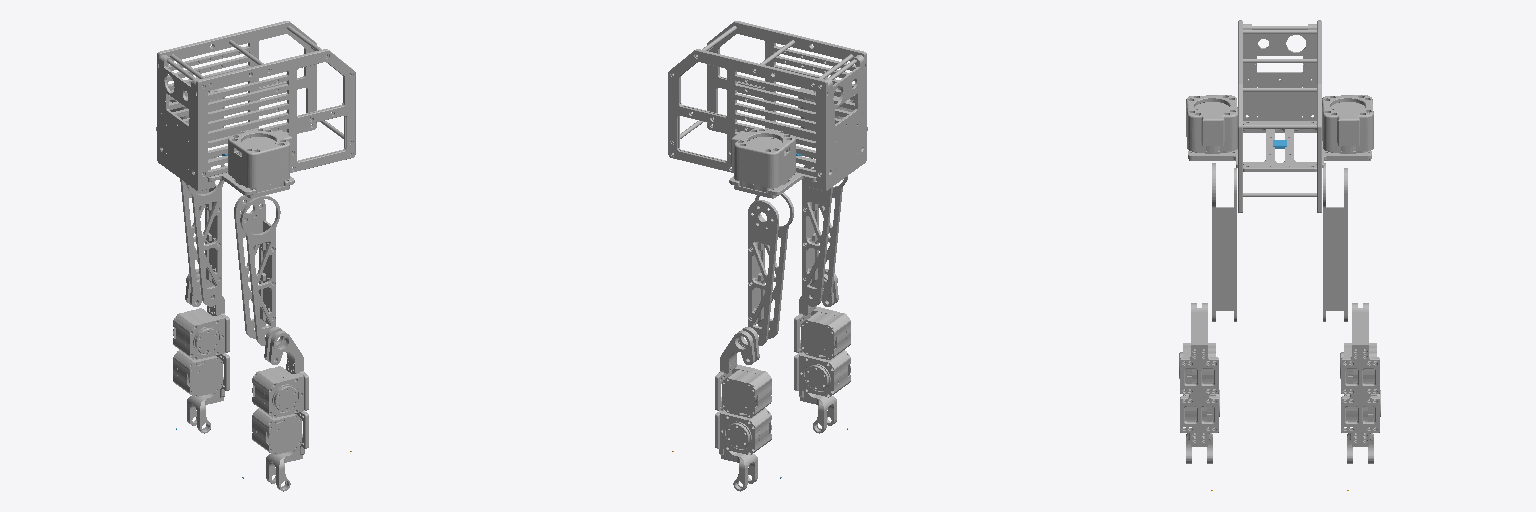
--- What the picture shows (computed from the rendered views, not written in the file) ---
The picture shows the robot from 3 angles, left to right: view 1: azimuth 30°, elevation 25°; view 2: azimuth 150°, elevation 25°; view 3: azimuth 270°, elevation 25°; orthographic projection.
Robot: pai_12dof_v2_0312 — 18 links, 17 joints (10 revolute, 7 fixed); root link base_link; default pose: all joints at 0.
Links seen in each view (by area): view 1: base_link, leg_r4_link, leg_l4_link, leg_r3_link, leg_l3_link; view 2: base_link, leg_l4_link, leg_r4_link, leg_l3_link, leg_r3_link; view 3: base_link, leg_r4_link, leg_l4_link, leg_r3_link, leg_l3_link.
Boxes of the visible links, x1,y1,x2,y2 form: base_link: [156, 21, 355, 198]; leg_r4_link: [252, 327, 308, 491]; leg_l4_link: [173, 269, 229, 433]; leg_r3_link: [234, 195, 280, 345]; leg_l3_link: [180, 157, 224, 306]; base_link: [668, 21, 867, 198]; leg_l4_link: [715, 327, 771, 491]; leg_r4_link: [794, 269, 850, 433]; leg_l3_link: [748, 193, 793, 345]; leg_r3_link: [802, 158, 847, 306]; base_link: [1186, 20, 1373, 212]; leg_r4_link: [1179, 303, 1219, 463]; leg_l4_link: [1340, 303, 1380, 463]; leg_r3_link: [1212, 163, 1236, 321]; leg_l3_link: [1323, 163, 1347, 321].
Bounding box of the posed robot: 0.205 × 0.2223 × 0.5032 m (x, y, z).
5 mesh visuals loaded from 13 distinct referenced files (5 binary STL); not drawn: 8 (reference not matched to a file when rendering).

The robot description file, URDF, robot "pai_12dof_v2_0312":
<?xml version="1.0" encoding="utf-8"?>
<!-- This URDF was automatically created by SolidWorks to URDF Exporter! Originally created by Stephen Brawner ([email redacted]) 
     Commit Version: 1.6.0-4-g7f85cfe  Build Version: 1.6.7995.38578
     For more information, please see http://wiki.ros.org/sw_urdf_exporter -->
<robot
  name="pai_12dof_v2_0312">
  
<mujoco>
  <compiler 
    meshdir="package://legged_hunter_description/meshes/" 
    balanceinertia="true" 
    discardvisual="false" />
</mujoco>


<gazebo>
    <plugin name="gazebo_ros_control" filename="libhunter_bipedal_hw_sim.so">
      <robotNamespace>/</robotNamespace>
      <robotParam>legged_robot_description</robotParam>
      <robotSimType>legged_gazebo/LeggedHWSim</robotSimType>
    </plugin>
  </gazebo>

  <gazebo>
    <plugin filename="libgazebo_ros_p3d.so" name="p3d_base_controller">
      <alwaysOn>true</alwaysOn>
      <updateRate>500.0</updateRate>
      <bodyName>base_link</bodyName>
      <topicName>ground_truth/state</topicName>
      <gaussianNoise>0</gaussianNoise>
      <frameName>world</frameName>
      <xyzOffsets>0 0 0</xyzOffsets>
      <rpyOffsets>0 0 0</rpyOffsets>
    </plugin>
  </gazebo>


  <link
    name="base_link">
    <inertial>
      <origin
        xyz="0.036389 -1.95E-05 0.0235966"
        rpy="0 0 0" />
      <mass
        value="2.0" />
      <inertia
        ixx="0.0052145"
        ixy="3.8E-06"
        ixz="0.0003997"
        iyy="0.0041695"
        iyz="6E-07"
        izz="0.007904" />
    </inertial>
    <visual>
      <origin
        xyz="0 0 0"
        rpy="0 0 0" />
      <geometry>
        <mesh
          filename="package://legged_hunter_description/meshes/base_link.STL" />
      </geometry>
      <material
        name="">
        <color
          rgba="0.75294 0.75294 0.75294 1" />
      </material>
    </visual>
    <collision>
      <origin
        xyz="0.04 0 0.06"
        rpy="0 0 0" />
			<geometry>
				<box size="0.2 0.2 0.12" />
			</geometry>
    </collision>
  </link>


  <joint name="imu_joint" type="fixed">
      <origin rpy="0. 0. 0." xyz="0. 0. 0"/>
      <parent link="base_link"/>
      <child link="imu_link"/>
    </joint>
    <!-- Imu link -->
    <link name="imu_link">
      <inertial>
        <mass value="0.01"/>
        <origin rpy="0 0 0" xyz="0 0 0"/>
        <inertia ixx="0.000001" ixy="0" ixz="0" iyy="0.000001" iyz="0" izz="0.000001"/>
      </inertial>
      <visual>
        <origin rpy="0 0 0" xyz="0 0 0"/>
        <geometry>
          <box size="0.015 0.015 0.004"/>
        </geometry>
      </visual>
      <material name="orange">
        <color rgba="255 108 10 255"/>
      </material>
    </link>
    <gazebo reference="imu_joint">
      <disableFixedJointLumping>true</disableFixedJointLumping>
    </gazebo>


  <!-- ************************************************************ -->
  <!-- ************************ Right Leg ************************** -->
  <!-- ************************************************************ -->
	

  <!-- ************* part 2 *************** -->
  <joint
    name="leg_r2_joint"
    type="revolute">
    <origin
      xyz="0 -0.075 0"
      rpy="0 0 0" />
    <parent
      link="base_link" />
    <child
      link="leg_r2_link" />
    <axis
      xyz="0 0 1" />
    <limit
      lower="-2"
      upper="0.9"
      effort="21"
      velocity="21" />
  </joint>
  <link
    name="leg_r2_link">
    <inertial>
      <origin
        xyz="-0.0578492 0 -0.0416749"
        rpy="0 0 0" />
      <mass
        value="0.3887654" />
      <inertia
        ixx="0.0002521"
        ixy="0"
        ixz="-0.0001456"
        iyy="0.0004324"
        iyz="0"
        izz="0.0003133" />
    </inertial>
    <visual>
      <origin
        xyz="0 0 0"
        rpy="0 0 0" />
      <geometry>
        <mesh
          filename="package://legged_hunter_description/meshes/r_hip_yaw_link.STL" />
      </geometry>
      <material
        name="">
        <color
          rgba="0.75294 0.75294 0.75294 1" />
      </material>
    </visual>
    <collision>
			<origin xyz="0 0 0" rpy="0 0 0" />
			<geometry>
				<box size="0.0001 0.0001 0.0001" />
			</geometry>
    </collision>
  </link>
  



  <!-- ************* part 1 *************** -->
  <joint
    name="leg_r1_joint"
    type="revolute">
    <origin
      xyz="-0.04 0 -0.05"
      rpy="0 0 0" />
    <parent
      link="leg_r2_link" />
    <child
      link="leg_r1_link" />
    <axis
      xyz="1 0 0" />
    <limit
      lower="-1.0"
      upper="0.5"
      effort="21"
      velocity="21" />
  </joint>
  <link
    name="leg_r1_link">
    <inertial>
      <origin
        xyz="0.0373373 0.0004272 0.0004287"
        rpy="0 0 0" />
      <mass
        value="0.7495221" />
      <inertia
        ixx="0.0013819"
        ixy="-3E-06"
        ixz="5.4E-06"
        iyy="0.0003384"
        iyz="6E-07"
        izz="0.0014434" />
    </inertial>
    <visual>
      <origin
        xyz="0 0 0"
        rpy="0 0 0" />
      <geometry>
        <mesh
          filename="package://legged_hunter_description/meshes/r_hip_roll_link.STL" />
      </geometry>
      <material
        name="">
        <color
          rgba="0.75294 0.75294 0.75294 1" />
      </material>
    </visual>
    <collision>
      <origin
        xyz="0 0 0"
        rpy="0 0 0" />
			<geometry>
				<box size="0.0001 0.0001 0.0001" />
			</geometry>
    </collision>
  </link>
  

  <!-- ************* part 3 *************** -->

<joint
    name="leg_r3_joint"
    type="revolute">
    <origin
      xyz="0.04 0 0"
      rpy="0 0 0" />
    <parent
      link="leg_r1_link" />
    <child
      link="leg_r3_link" />
    <axis
      xyz="0 1 0" />
    <limit
      lower="-1.8"
      upper="0.8"
      effort="21"
      velocity="21" />
  </joint>
  <link
    name="leg_r3_link">
    <inertial>
      <origin
        xyz="0.004364 -0.0013366 -0.0465535"
        rpy="0 0 0" />
      <mass
        value="0.1443603" />
      <inertia
        ixx="0.0004365"
        ixy="-8E-07"
        ixz="3.66E-05"
        iyy="0.0004422"
        iyz="9E-06"
        izz="4.91E-05" />
    </inertial>
    <visual>
      <origin
        xyz="0 0 0"
        rpy="0 0 0" />
      <geometry>
        <mesh
          filename="package://legged_hunter_description/meshes/r_thigh_link.STL" />
      </geometry>
      <material
        name="">
        <color
          rgba="0.75294 0.75294 0.75294 1" />
      </material>
    </visual>
    <collision>
			<origin xyz="0.0 0 -0.05" rpy="0 0 0" />
			<geometry>
				<box size="0.01 0.01 0.09" />
			</geometry>
    </collision>
  </link>
  


  <!-- ************* part 4 *************** -->
<joint
    name="leg_r4_joint"
    type="revolute">
    <origin
      xyz="0.014 0 -0.14935"
      rpy="0 0 0" />
    <parent
      link="leg_r3_link" />
    <child
      link="leg_r4_link" />
    <axis
      xyz="0 1 0" />
    <limit
      lower="-0.15"
      upper="2.0"
      effort="21"
      velocity="21" />
  </joint>

  <link
    name="leg_r4_link">
    <inertial>
      <origin
        xyz="0.0035389 0 -0.0714471"
        rpy="0 0 0" />
      <mass
        value="0.768122" />
      <inertia
        ixx="0.0010371"
        ixy="0"
        ixz="-9.4E-06"
        iyy="0.0010674"
        iyz="-3.3E-06"
        izz="0.0002151" />
    </inertial>
    <visual>
      <origin
        xyz="0 0 0"
        rpy="0 0 0" />
      <geometry>
        <mesh
          filename="package://legged_hunter_description/meshes/r_calf_link.STL" />
      </geometry>
      <material
        name="">
        <color
          rgba="0.75294 0.75294 0.75294 1" />
      </material>
    </visual>
    <collision>
			<origin xyz="0.00 0.0 -0.05" rpy="0 0 0" />
			<geometry>
				<box size="0.01 0.01 0.09" />
			</geometry>
    </collision>
  </link>
  

  <!-- ************* part 5 *************** -->
  <joint
    name="leg_r5_joint"
    type="revolute">
    <origin
      xyz="0.0025 0 -0.15845"
      rpy="0 0 0" />
    <parent
      link="leg_r4_link" />
    <child
      link="leg_r5_link" />
    <axis
      xyz="0 1 0" />
    <limit
      lower="-1.2"
      upper="0.95"
      effort="21"
      velocity="21" />
  </joint>
  <link
    name="leg_r5_link">
    <inertial>
      <origin
        xyz="0 0 0"
        rpy="0 0 0" />
      <mass
        value="0.0088647" />
      <inertia
        ixx="2E-07"
        ixy="0"
        ixz="0"
        iyy="1E-06"
        iyz="0"
        izz="1E-06" />
    </inertial>
    <visual>
      <origin
        xyz="0 0 0"
        rpy="0 0 0" />
      <geometry>
        <mesh
          filename="package://legged_hunter_description/meshes/r_ankle_pitch_link.STL" />
      </geometry>
      <material
        name="">
        <color
          rgba="0.75294 0.75294 0.75294 1" />
      </material>
    </visual>
    <collision>
			<origin xyz="0.012 0.0 0.0" rpy="0 0 0" />
			<geometry>
				<box size="0.0 0.0 0.0" />
			</geometry>
    </collision>
  </link>
  
  <link
    name="r_ankle_roll_link">
    <inertial>
      <origin
        xyz="0.0240775 0 -0.018709"
        rpy="0 0 0" />
      <mass
        value="0.1728932" />
      <inertia
        ixx="7.78E-05"
        ixy="0"
        ixz="2.11E-05"
        iyy="0.0003287"
        iyz="0"
        izz="0.0003779" />
    </inertial>
    <visual>
      <origin
        xyz="0 0 0"
        rpy="0 0 0" />
      <geometry>
        <mesh
          filename="package://legged_hunter_description/meshes/r_ankle_roll_link.STL" />
      </geometry>
      <material
        name="">
        <color
          rgba="0.75294 0.75294 0.75294 1" />
      </material>
    </visual>
    <collision>
      <origin
        xyz="0.035 0 -0.025"
        rpy="0 0 0" />
      <geometry>
				<box size="0.14 0.07 0.015" />
			</geometry>
    </collision>
  </link>
  <joint
    name="r_ankle_roll_joint"
    type="fixed">
    <origin
      xyz="0 0 0"
      rpy="0 0 0" />
    <parent
      link="leg_r5_link" />
    <child
      link="r_ankle_roll_link" />
  </joint>


  <joint name="leg_r5_fixed_1" type="fixed">
    <origin xyz="0.1 0 -0.0100" rpy="0 0 0" />
    <parent link="r_ankle_roll_link" />
    <child link="leg_r_f1_link" />
  </joint>
  <link name="leg_r_f1_link">
    <inertial>
      <mass value="0.01" />
      <inertia ixx="0.000001" ixy="0" ixz="0" iyy="0.000001" iyz="0" izz="0.000001" />
    </inertial>
    <visual>
      <origin rpy="0 0 0" xyz="0 0 0"/>
      <geometry>
        <sphere radius="0.001"/>
      </geometry>
    </visual>
    <collision>
      <origin rpy="0 0 0" xyz="0 0 0"/>
      <geometry>
        <sphere radius="0.001"/>
      </geometry>
    </collision>
  </link>

  <joint name="leg_r5_fixed_2" type="fixed">
    <origin xyz="-0.040 0 -0.0100" rpy="0 0 0" />
    <parent link="r_ankle_roll_link" />
    <child link="leg_r_f2_link" />
  </joint>
  <link name="leg_r_f2_link">
    <inertial>
      <mass value="0.01" />
      <inertia ixx="0.000001" ixy="0" ixz="0" iyy="0.000001" iyz="0" izz="0.000001" />
    </inertial>
    <visual>
      <origin rpy="0 0 0" xyz="0 0 0"/>
      <geometry>
        <sphere radius="0.001"/>
      </geometry>
    </visual>
    <collision>
      <origin rpy="0 0 0" xyz="0 0 0"/>
      <geometry>
        <sphere radius="0.001"/>
      </geometry>
    </collision>
  </link>

  <gazebo reference="leg_r1_link">
    <mu1>0.6</mu1>
    <mu2>0.6</mu2>
    <self_collide>1</self_collide>
  </gazebo>
  <gazebo reference="leg_r2_link">
    <mu1>0.6</mu1>
    <mu2>0.6</mu2>
    <self_collide>1</self_collide>
  </gazebo>
  <gazebo reference="leg_r3_link">
    <mu1>0.6</mu1>
    <mu2>0.6</mu2>
    <self_collide>1</self_collide>
  </gazebo>
  <gazebo reference="leg_r4_link">
    <mu1>0.6</mu1>
    <mu2>0.6</mu2>
    <self_collide>1</self_collide>
  </gazebo>
  <gazebo reference="leg_r5_link">
    <mu1>0.6</mu1>
    <mu2>0.6</mu2>
    <self_collide>1</self_collide>
  </gazebo>
    <gazebo reference="r_ankle_roll_link">
    <mu1>1.6</mu1>
    <mu2>1.6</mu2>
    <self_collide>1</self_collide>
    <kp value="1000000.0"/>
    <kd value="100.0"/>
    <maxVel>1.0</maxVel>
    <minDepth>0.00</minDepth>
  </gazebo>
  <gazebo reference="leg_r_f1_link">
    <mu1>1.5</mu1>
    <mu2>1.5</mu2>
    <self_collide>1</self_collide>
    <kp value="1000000.0"/>
    <kd value="100.0"/>
    <maxVel>1.0</maxVel>
    <minDepth>0.00</minDepth>
  </gazebo>
  <gazebo reference="leg_r_f2_link">
    <mu1>1.5</mu1>
    <mu2>1.5</mu2>
    <self_collide>1</self_collide>
    <kp value="1000000.0"/>
    <kd value="100.0"/>
    <maxVel>1.0</maxVel>
    <minDepth>0.00</minDepth>
  </gazebo>

  <transmission name="leg_r1_tran">
    <type>transmission_interface/SimpleTransmission</type>
    <joint name="leg_r1_joint">
      <hardwareInterface>hardware_interface/EffortJointInterface</hardwareInterface>
    </joint>
    <actuator name="leg_r1_motor">
      <hardwareInterface>hardware_interface/EffortJointInterface</hardwareInterface>
      <mechanicalReduction>1</mechanicalReduction>
      	  <maxVelocity>1.484</maxVelocity><!-- 85rpm -->
	<maxEffort>36.0</maxEffort><!-- 36Nm -->
    </actuator>
  </transmission>

  <transmission name="leg_r2_tran">
    <type>transmission_interface/SimpleTransmission</type>
    <joint name="leg_r2_joint">
      <hardwareInterface>hardware_interface/EffortJointInterface</hardwareInterface>
    </joint>
    <actuator name="leg_r2_motor">
      <hardwareInterface>hardware_interface/EffortJointInterface</hardwareInterface>
      <mechanicalReduction>1</mechanicalReduction>
      	  <maxVelocity>2.6545</maxVelocity><!-- 160rpm -->
	  <maxEffort>94.0</maxEffort><!-- 94Nm -->
    </actuator>
  </transmission>

  <transmission name="leg_r3_tran">
    <type>transmission_interface/SimpleTransmission</type>
    <joint name="leg_r3_joint">
      <hardwareInterface>hardware_interface/EffortJointInterface</hardwareInterface>
    </joint>
    <actuator name="leg_r3_motor">
      <hardwareInterface>hardware_interface/EffortJointInterface</hardwareInterface>
      <mechanicalReduction>1</mechanicalReduction>
      	  <maxVelocity>2.6545</maxVelocity><!-- 160rpm -->
	  <maxEffort>94.0</maxEffort><!-- 94Nm -->
    </actuator>
  </transmission>

  <transmission name="leg_r4_tran">
    <type>transmission_interface/SimpleTransmission</type>
    <joint name="leg_r4_joint">
      <hardwareInterface>hardware_interface/EffortJointInterface</hardwareInterface>
    </joint>
    <actuator name="leg_r4_motor">
      <hardwareInterface>hardware_interface/EffortJointInterface</hardwareInterface>
      <mechanicalReduction>1</mechanicalReduction>
      	  <maxVelocity>1.484</maxVelocity><!-- 85rpm -->
	<maxEffort>36.0</maxEffort><!-- 36Nm -->
    </actuator>
  </transmission>

  <transmission name="leg_r5_tran">
    <type>transmission_interface/SimpleTransmission</type>
    <joint name="leg_r5_joint">
      <hardwareInterface>hardware_interface/EffortJointInterface</hardwareInterface>
    </joint>
    <actuator name="leg_r5_motor">
      <hardwareInterface>hardware_interface/EffortJointInterface</hardwareInterface>
      <mechanicalReduction>1</mechanicalReduction>
    </actuator>
  </transmission>

  

  <!-- ************************************************************ -->
  <!-- ************************ Left Leg ************************** -->
  <!-- ************************************************************ -->
  
  <!-- ************* part 2 *************** -->
  <joint
    name="leg_l2_joint"
    type="revolute">
    <origin
      xyz="0 0.075 0"
      rpy="0 0 0" />
    <parent
      link="base_link" />
    <child
      link="leg_l2_link" />
    <axis
      xyz="0 0 1" />
    <limit
      lower="-0.9"
      upper="2"
      effort="21"
      velocity="21" />
  </joint>
  <link
    name="leg_l2_link">
    <inertial>
      <origin
        xyz="-0.0578492 0 -0.0416749"
        rpy="0 0 0" />
      <mass
        value="0.3887654" />
      <inertia
        ixx="0.0002521"
        ixy="0"
        ixz="-0.0001456"
        iyy="0.0004324"
        iyz="0"
        izz="0.0003133" />
    </inertial>
    <visual>
      <origin
        xyz="0 0 0"
        rpy="0 0 0" />
      <geometry>
        <mesh
          filename="package://legged_hunter_description/meshes/l_hip_yaw_link.STL" />
      </geometry>
      <material
        name="">
        <color
          rgba="0.75294 0.75294 0.75294 1" />
      </material>
    </visual>
    <collision>
			<origin xyz="0 0 0" rpy="0 0 0" />
			<geometry>
				<box size="0.0001 0.0001 0.0001" />
			</geometry>
    </collision>
  </link>
  
	<!-- ************* part 1 *************** -->
  <joint
    name="leg_l1_joint"
    type="revolute">
    <origin
      xyz="-0.04 0 -0.05"
      rpy="0 0 0" />
    <parent
      link="leg_l2_link" />
    <child
      link="leg_l1_link" />
    <axis
      xyz="1 0 0" />
    <limit
      lower="-0.8"
      upper="1.8"
      effort="21"
      velocity="21" />
  </joint>
  <link
    name="leg_l1_link">
    <inertial>
      <origin
        xyz="0.0373373 -0.0004323 0.0004287"
        rpy="0 0 0" />
      <mass
        value="0.74952" />
      <inertia
        ixx="0.0013819"
        ixy="-1.6E-06"
        ixz="5.4E-06"
        iyy="0.0003384"
        iyz="2E-07"
        izz="0.0014434" />
    </inertial>
    <visual>
      <origin
        xyz="0 0 0"
        rpy="0 0 0" />
      <geometry>
        <mesh
          filename="package://legged_hunter_description/meshes/l_hip_roll_link.STL" />
      </geometry>
      <material
        name="">
        <color
          rgba="0.75294 0.75294 0.75294 1" />
      </material>
    </visual>
    <collision>
			<origin rpy="0 0 0" xyz="0 0 0" />
			<geometry>
				<box size="0.0001 0.0001 0.0001" />
			</geometry>
    </collision>
  </link>
  

	<!-- ************* part 3 *************** -->
  <joint
    name="leg_l3_joint"
    type="revolute">
    <origin
      xyz="0.04 0 0"
      rpy="0 0 0" />
    <parent
      link="leg_l1_link" />
    <child
      link="leg_l3_link" />
    <axis
      xyz="0 -1 0" />
    <limit
      lower="-0.8"
      upper="1.8"
      effort="21"
      velocity="21" />
  </joint>
  <link
    name="leg_l3_link">
    <inertial>
      <origin
        xyz="0.004364 0.0013366 -0.046554"
        rpy="0 0 0" />
      <mass
        value="0.1443603" />
      <inertia
        ixx="0.0004365"
        ixy="8E-07"
        ixz="3.66E-05"
        iyy="0.0004422"
        iyz="-9E-06"
        izz="4.91E-05" />
    </inertial>
    <visual>
      <origin
        xyz="0 0 0"
        rpy="0 0 0" />
      <geometry>
        <mesh
          filename="package://legged_hunter_description/meshes/l_thigh_link.STL" />
      </geometry>
      <material
        name="">
        <color
          rgba="0.75294 0.75294 0.75294 1" />
      </material>
    </visual>
    <collision>
			<origin xyz="0.00 0 -0.05" rpy="0 0 0" />
            <geometry>
                <box size="0.01 0.01 0.09" />
            </geometry>
    </collision>
  </link>
  

	<!-- ************* part 4 *************** -->
  <joint
    name="leg_l4_joint"
    type="revolute">
    <origin
      xyz="0.014 0 -0.14935"
      rpy="0 0 0" />
    <parent
      link="leg_l3_link" />
    <child
      link="leg_l4_link" />
    <axis
      xyz="0 1 0" />
    <limit
      lower="-0.15"
      upper="2.0"
      effort="21"
      velocity="21" />
  </joint>
  <link
    name="leg_l4_link">
    <inertial>
      <origin
        xyz="0.0035389 0 -0.07142"
        rpy="0 0 0" />
      <mass
        value="0.768122" />
      <inertia
        ixx="0.0010371"
        ixy="0"
        ixz="-9.4E-06"
        iyy="0.0010674"
        iyz="-3.3E-06"
        izz="0.0002151" />
    </inertial>
    <visual>
      <origin
        xyz="0 0 0"
        rpy="0 0 0" />
      <geometry>
        <mesh
          filename="package://legged_hunter_description/meshes/l_calf_link.STL" />
      </geometry>
      <material
        name="">
        <color
          rgba="0.75294 0.75294 0.75294 1" />
      </material>
    </visual>
    <collision>
			<origin xyz="0.0 0.0 -0.05" rpy="0 0 0" />
			<geometry>
				<box size="0.01 0.01 0.09" />
			</geometry>
    </collision>
  </link>
  

	<!-- ************* part 5 *************** -->
  <joint
    name="leg_l5_joint"
    type="revolute">
    <origin
      xyz="0.0025 0 -0.15845"
      rpy="0 0 0" />
    <parent
      link="leg_l4_link" />
    <child
      link="leg_l5_link" />
    <axis
      xyz="0 -1 0" />
    <limit
      lower="-0.8"
      upper="1.2"
      effort="21"
      velocity="21" />
  </joint>
  <link
    name="leg_l5_link">
    <inertial>
      <origin
        xyz="0 0 0"
        rpy="0 0 0" />
      <mass
        value="0.0088647" />
      <inertia
        ixx="2E-07"
        ixy="0"
        ixz="0"
        iyy="1E-06"
        iyz="0"
        izz="1E-06" />
    </inertial>
    <visual>
      <origin
        xyz="0 0 0"
        rpy="0 0 0" />
      <geometry>
        <mesh
          filename="package://legged_hunter_description/meshes/l_ankle_pitch_link.STL" />
      </geometry>
      <material
        name="">
        <color
          rgba="0.75294 0.75294 0.75294 1" />
      </material>
    </visual>
    <collision>
			<origin xyz="0.012 0.0 0.0" rpy="0 0 0" />
      <geometry>
        <box size="0.00 0.00 0.00" />
      </geometry>
    </collision>
  </link>
  
  <link
    name="l_ankle_roll_link">
    <inertial>
      <origin
        xyz="0.0240775 0 -0.018709"
        rpy="0 0 0" />
      <mass
        value="0.1728932" />
      <inertia
        ixx="7.78E-05"
        ixy="0"
        ixz="2.11E-05"
        iyy="0.0003287"
        iyz="0"
        izz="0.0003779" />
    </inertial>
    <visual>
      <origin
        xyz="0 0 0"
        rpy="0 0 0" />
      <geometry>
        <mesh
          filename="package://legged_hunter_description/meshes/l_ankle_roll_link.STL" />
      </geometry>
      <material
        name="">
        <color
          rgba="0.75294 0.75294 0.75294 1" />
      </material>
    </visual>
    <collision>
      <origin
        xyz="0.035 0 -0.025"
        rpy="0 0 0" />
      <geometry>
				<box size="0.14 0.07 0.015" />
			</geometry>
    </collision>
  </link>
  <joint
    name="l_ankle_roll_joint"
    type="fixed">
    <origin
      xyz="0 0 0"
      rpy="0 0 0" />
    <parent
      link="leg_l5_link" />
    <child
      link="l_ankle_roll_link" />
  </joint>

 <joint name="leg_l5_fixed_1" type="fixed">
    <origin xyz="0.1 0 -0.0100" rpy="0 0 0" />
    <parent link="l_ankle_roll_link" />
    <child link="leg_l_f1_link" />
  </joint>
  <link name="leg_l_f1_link">
    <inertial>
      <mass value="0.01" />
      <inertia ixx="0.000001" ixy="0" ixz="0" iyy="0.000001" iyz="0" izz="0.000001" />
    </inertial>
    <visual>
      <origin rpy="0 0 0" xyz="0 0 0"/>
      <geometry>
        <sphere radius="0.001"/>
      </geometry>
    </visual>
    <collision>
      <origin rpy="0 0 0" xyz="0 0 0"/>
      <geometry>
        <sphere radius="0.001"/>
      </geometry>
    </collision>
  </link>

  <joint name="leg_l5_fixed_2" type="fixed">
    <origin xyz="-0.04 0 -0.0100" rpy="0 0 0" />
    <parent link="l_ankle_roll_link" />
    <child link="leg_l_f2_link" />
  </joint>
  <link name="leg_l_f2_link">
    <inertial>
      <mass value="0.01" />
      <inertia ixx="0.000001" ixy="0" ixz="0" iyy="0.000001" iyz="0" izz="0.000001" />
    </inertial>
    <visual>
      <origin rpy="0 0 0" xyz="0 0 0"/>
      <geometry>
        <sphere radius="0.001"/>
      </geometry>
    </visual>
    <collision>
      <origin rpy="0 0 0" xyz="-0 0 0"/>
      <geometry>
        <sphere radius="0.001"/>
      </geometry>
    </collision>
  </link>

  <gazebo reference="leg_l1_link">
    <mu1>0.6</mu1>
    <mu2>0.6</mu2>
    <self_collide>1</self_collide>
  </gazebo>
  <gazebo reference="leg_l2_link">
    <mu1>0.6</mu1>
    <mu2>0.6</mu2>
    <self_collide>1</self_collide>
  </gazebo>
  <gazebo reference="leg_l3_link">
    <mu1>0.6</mu1>
    <mu2>0.6</mu2>
    <self_collide>1</self_collide>
  </gazebo>
  <gazebo reference="leg_l4_link">
    <mu1>0.6</mu1>
    <mu2>0.6</mu2>
    <self_collide>1</self_collide>
  </gazebo>
  <gazebo reference="leg_l5_link">
    <mu1>0.6</mu1>
    <mu2>0.6</mu2>
    <self_collide>1</self_collide>
  </gazebo>
    <gazebo reference="l_ankle_roll_link">
    <mu1>1.6</mu1>
    <mu2>1.6</mu2>
    <self_collide>1</self_collide>
    <kp value="1000000.0"/>
    <kd value="100.0"/>
    <maxVel>1.0</maxVel>
    <minDepth>0.00</minDepth>
  </gazebo>
  <gazebo reference="leg_l_f1_link">
    <mu1>1.5</mu1>
    <mu2>1.5</mu2>
    <self_collide>1</self_collide>
    <kp value="1000000.0"/>
    <kd value="100.0"/>
    <maxVel>1.0</maxVel>
    <minDepth>0.00</minDepth>
  </gazebo>
  <gazebo reference="leg_l_f2_link">
    <mu1>1.5</mu1>
    <mu2>1.5</mu2>
    <self_collide>1</self_collide>
    <kp value="1000000.0"/>
    <kd value="100.0"/>
    <maxVel>1.0</maxVel>
    <minDepth>0.00</minDepth>
  </gazebo>

  <transmission name="leg_l1_tran">
    <type>transmission_interface/SimpleTransmission</type>
    <joint name="leg_l1_joint">
      <hardwareInterface>hardware_interface/EffortJointInterface</hardwareInterface>
    </joint>
    <actuator name="leg_l1_motor">
      <hardwareInterface>hardware_interface/EffortJointInterface</hardwareInterface>
      <mechanicalReduction>1</mechanicalReduction>
    <maxVelocity>1.484</maxVelocity><!-- 85rpm -->
	  <maxEffort>36.0</maxEffort><!-- 36Nm -->
    </actuator>
  </transmission>

  <transmission name="leg_l2_tran">
    <type>transmission_interface/SimpleTransmission</type>
    <joint name="leg_l2_joint">
      <hardwareInterface>hardware_interface/EffortJointInterface</hardwareInterface>
    </joint>
    <actuator name="leg_l2_motor">
      <hardwareInterface>hardware_interface/EffortJointInterface</hardwareInterface>
      <mechanicalReduction>1</mechanicalReduction>
    <maxVelocity>2.6545</maxVelocity><!-- 160rpm -->
	  <maxEffort>94.0</maxEffort><!-- 94Nm -->
    </actuator>
  </transmission>

  <transmission name="leg_l3_tran">
    <type>transmission_interface/SimpleTransmission</type>
    <joint name="leg_l3_joint">
      <hardwareInterface>hardware_interface/EffortJointInterface</hardwareInterface>
    </joint>
    <actuator name="leg_l3_motor">
      <hardwareInterface>hardware_interface/EffortJointInterface</hardwareInterface>
      <mechanicalReduction>1</mechanicalReduction>
    <maxVelocity>2.6545</maxVelocity><!-- 160rpm -->
	  <maxEffort>94.0</maxEffort><!-- 94Nm -->
    </actuator>
  </transmission>

  <transmission name="leg_l4_tran">
    <type>transmission_interface/SimpleTransmission</type>
    <joint name="leg_l4_joint">
      <hardwareInterface>hardware_interface/EffortJointInterface</hardwareInterface>
    </joint>
    <actuator name="leg_l4_motor">
      <hardwareInterface>hardware_interface/EffortJointInterface</hardwareInterface>
      <mechanicalReduction>1</mechanicalReduction>
    <maxVelocity>1.484</maxVelocity><!-- 85rpm -->
	<maxEffort>36.0</maxEffort><!-- 36Nm -->
    </actuator>
  </transmission>

  <transmission name="leg_l5_tran">
    <type>transmission_interface/SimpleTransmission</type>
    <joint name="leg_l5_joint">
      <hardwareInterface>hardware_interface/EffortJointInterface</hardwareInterface>
    </joint>
    <actuator name="leg_l5_motor">
      <hardwareInterface>hardware_interface/EffortJointInterface</hardwareInterface>
      <mechanicalReduction>1</mechanicalReduction>
    </actuator>
  </transmission>

</robot>
